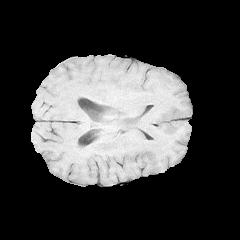glioma: (95, 81, 167, 133)
